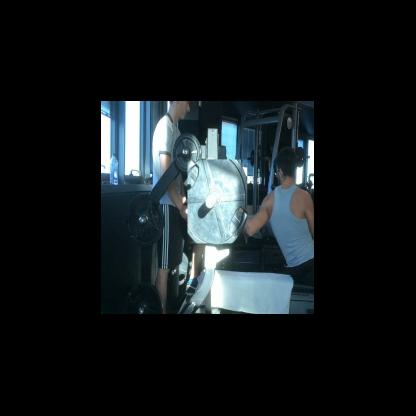barbell: (188, 159, 247, 244)
